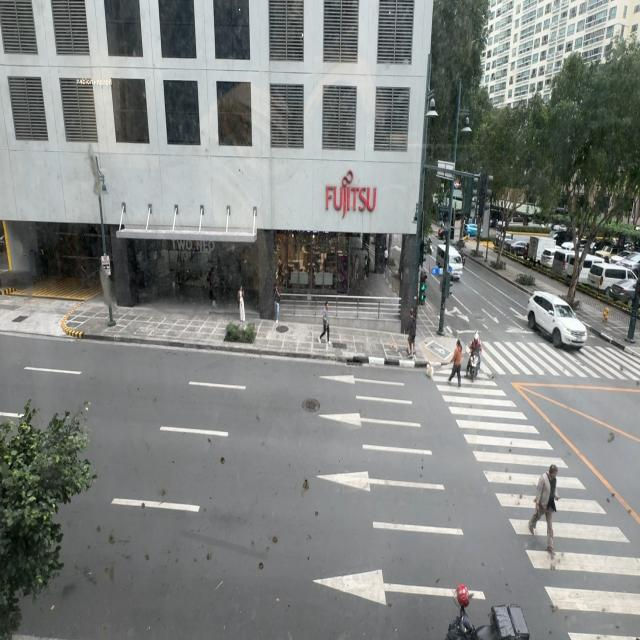crossing: (526, 463, 558, 554), (447, 340, 462, 387)
pedestrain: (405, 308, 417, 358), (318, 298, 330, 346), (272, 281, 281, 323), (238, 282, 245, 322), (384, 248, 388, 270)
